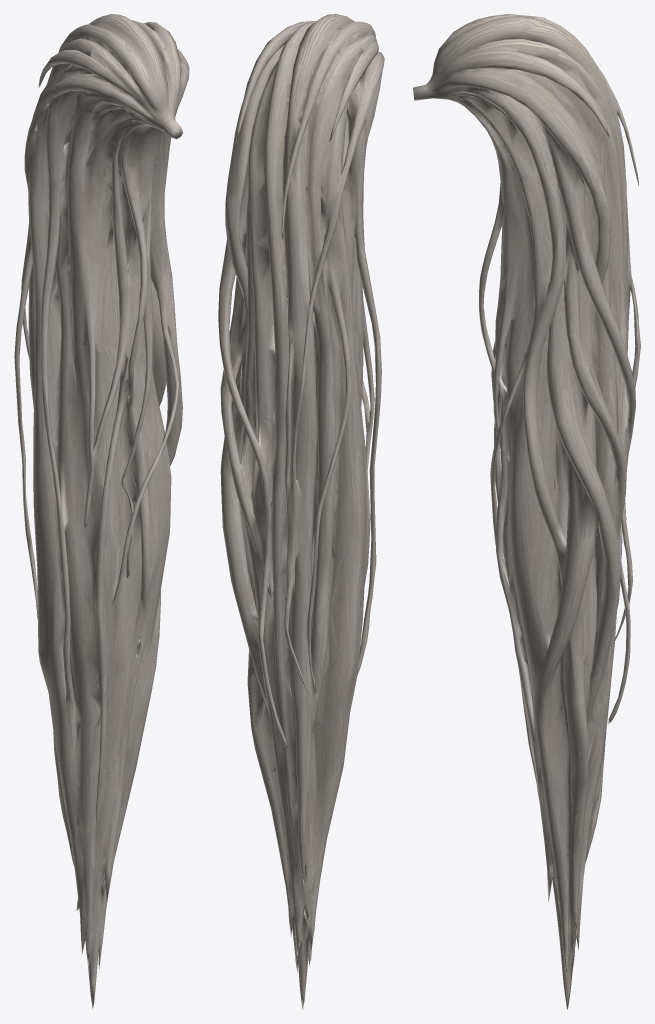
File: fighter3_parts.glb
The picture shows the model from 3 angles, left to right: view 1: azimuth 30°, elevation 25°; view 2: azimuth 150°, elevation 25°; view 3: azimuth 270°, elevation 25°; orthographic projection. The views are drawn at different scales.
Visible parts, largest first — view 1: P__Head__Ponytail; view 2: P__Head__Ponytail; view 3: P__Head__Ponytail.
Boxes of the visible parts, left/top/right/bottom form: P__Head__Ponytail: left=14, top=14, right=189, bottom=1009; P__Head__Ponytail: left=218, top=14, right=384, bottom=1009; P__Head__Ponytail: left=413, top=14, right=640, bottom=1009.
Bounding box in the file's own units: 0.0717 × 0.4911 × 0.1019.
1 material, 1 textured.
